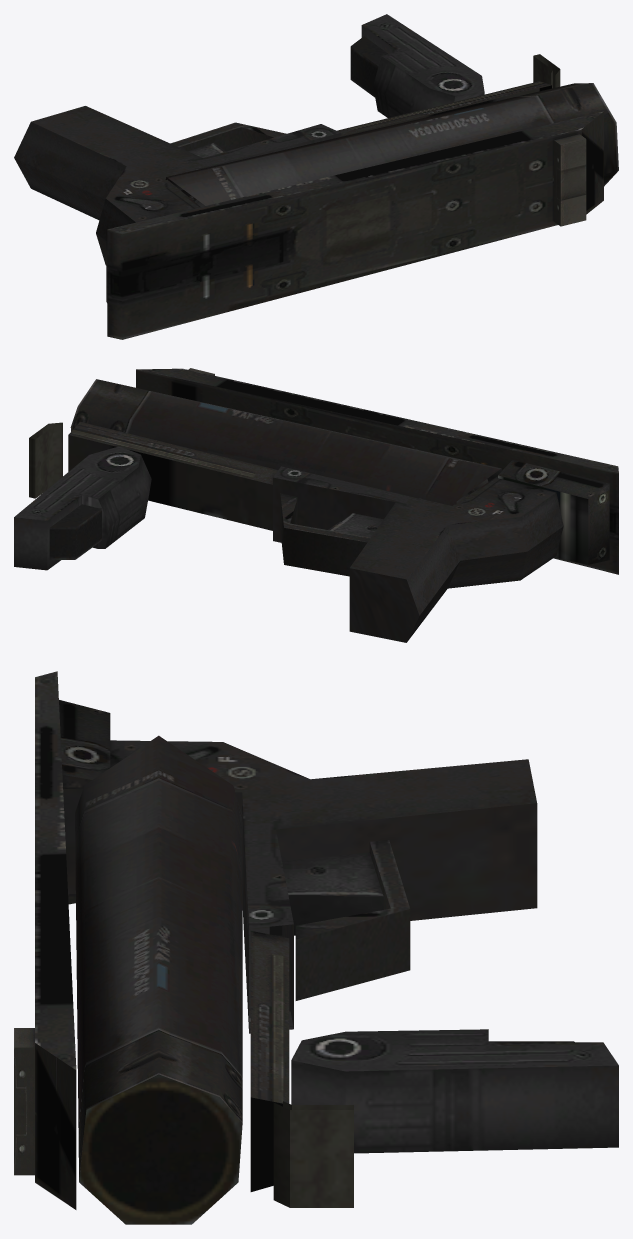
The model's file is t6_attach_gl_m320_world_LOD1.obj.
3 renders of one model, top to bottom at view 1: azimuth 30°, elevation 25°; view 2: azimuth 150°, elevation 25°; view 3: azimuth 270°, elevation 25°, orthographic. The views are drawn at different scales.
Parts seen in each view (by area): view 1: mtl_t6_attach_gl_m320; view 2: mtl_t6_attach_gl_m320; view 3: mtl_t6_attach_gl_m320.
Boxes of the visible parts, x1=… form: mtl_t6_attach_gl_m320: x1=14, y1=14, x2=618, y2=339; mtl_t6_attach_gl_m320: x1=14, y1=368, x2=618, y2=642; mtl_t6_attach_gl_m320: x1=14, y1=671, x2=618, y2=1224.
Size of the model in its own units: 28.11 by 5.69 by 17.8.
